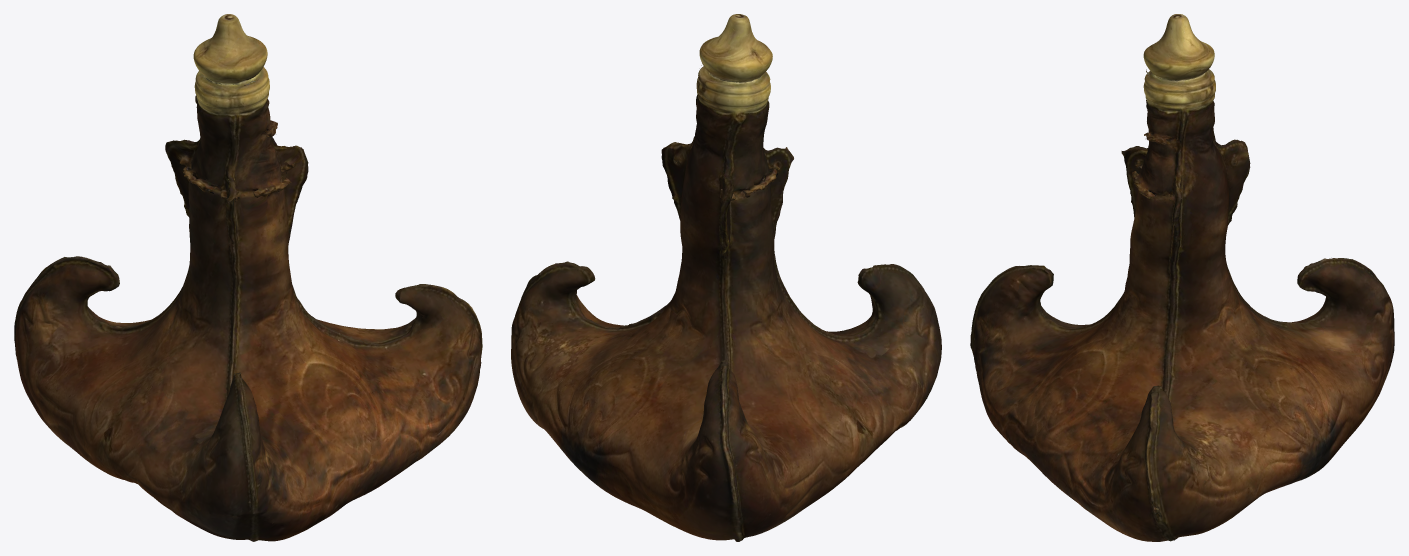
File: saba.glb
3 renders of one model, left to right at view 1: azimuth 30°, elevation 25°; view 2: azimuth 150°, elevation 25°; view 3: azimuth 270°, elevation 25°, orthographic. The views are drawn at different scales.
Visible parts, largest first — view 1: Default; view 2: Default; view 3: Default.
Boxes of the visible parts, box(x1,y1,x2,y2) form: Default: box(14, 14, 482, 541); Default: box(511, 14, 941, 541); Default: box(970, 14, 1394, 541).
Bounding box in the file's own units: 200 × 235 × 208.
1 material, 1 textured.
